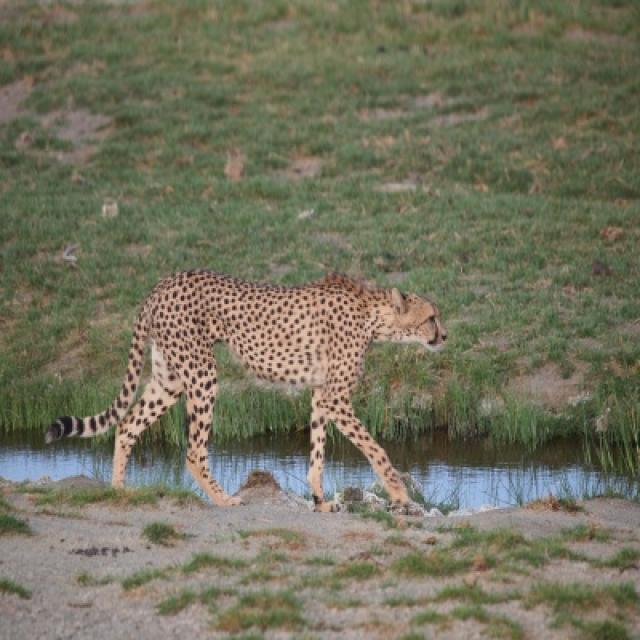Cheetah: (86, 270, 448, 509)
